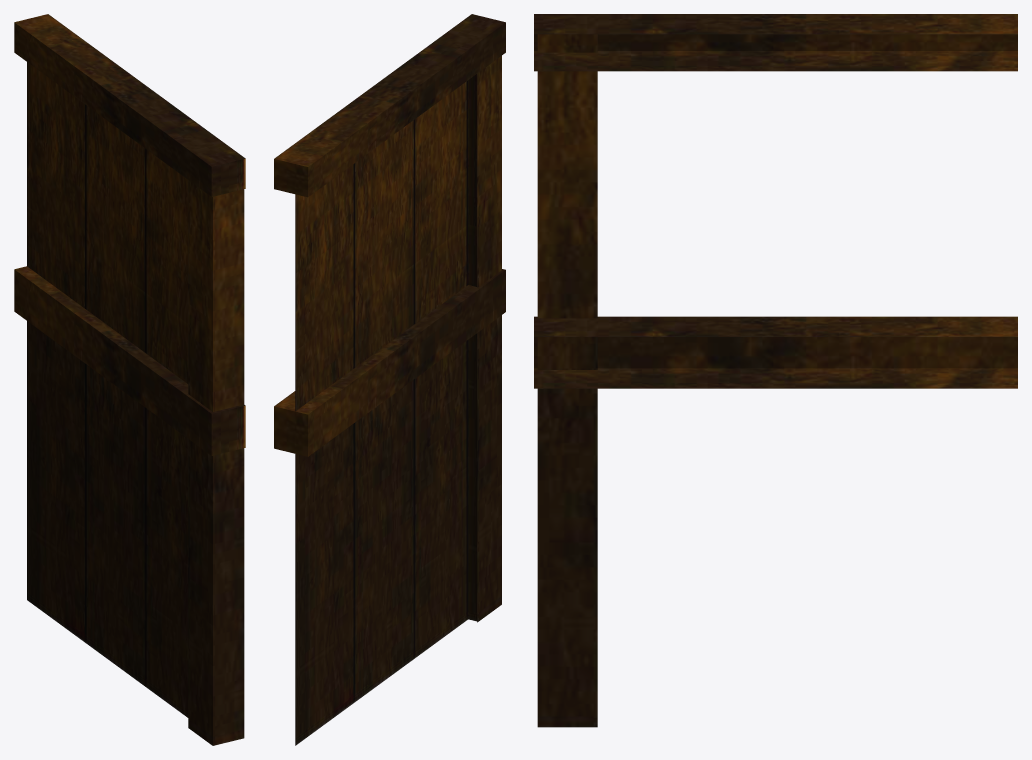
The model's file is Wall.fbx.
3 renders of one model, left to right at view 1: azimuth 30°, elevation 25°; view 2: azimuth 150°, elevation 25°; view 3: azimuth 270°, elevation 25°, orthographic. The views are drawn at different scales.
Parts seen in each view (by area): view 1: TypeA_wall:wall; view 2: TypeA_wall:wall; view 3: TypeA_wall:wall.
Part boxes in pixels (x1,y1,x2,y2): TypeA_wall:wall: (14, 14, 245, 745); TypeA_wall:wall: (274, 14, 505, 745); TypeA_wall:wall: (534, 14, 1017, 727).
Size of the model in its own units: 14.71 by 241 by 148.
